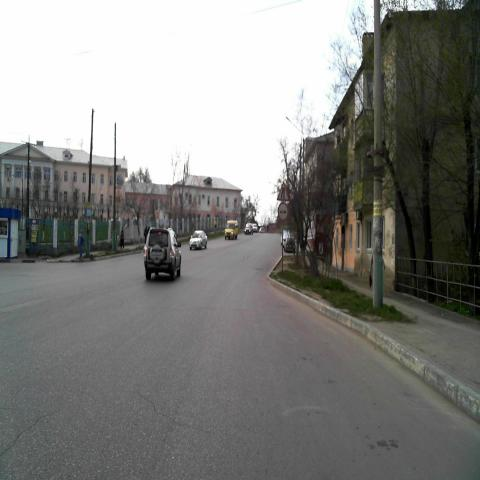1_20_3: (276, 182, 288, 202)
